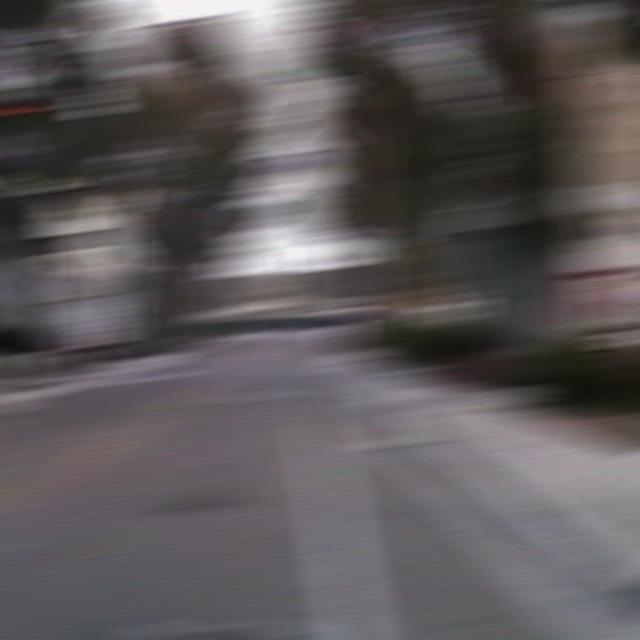pedestrianCrossing: (395, 284, 434, 315)
